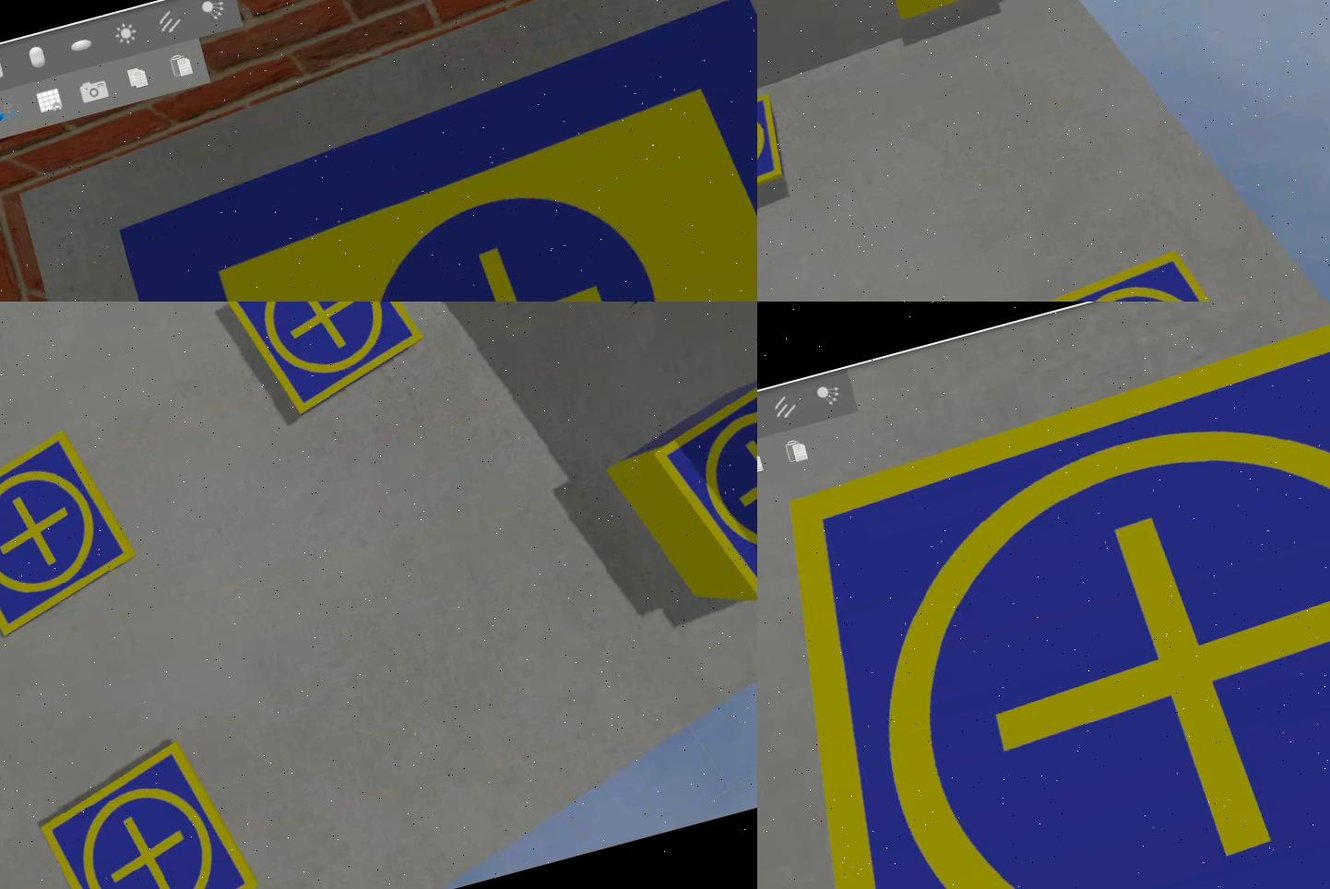large_base: (97, 1, 758, 302)
small_base: (758, 302, 1330, 889), (31, 730, 271, 889), (1, 423, 148, 646), (637, 349, 758, 618), (219, 302, 434, 423), (1026, 239, 1254, 302), (758, 92, 796, 223)
